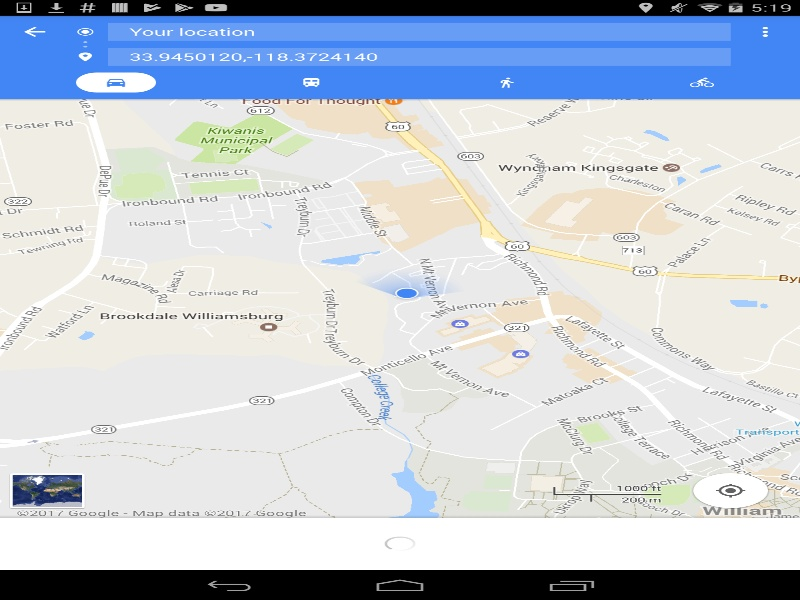Button: (12, 474, 82, 507)
Input: (108, 15, 730, 44), (108, 44, 730, 71)
